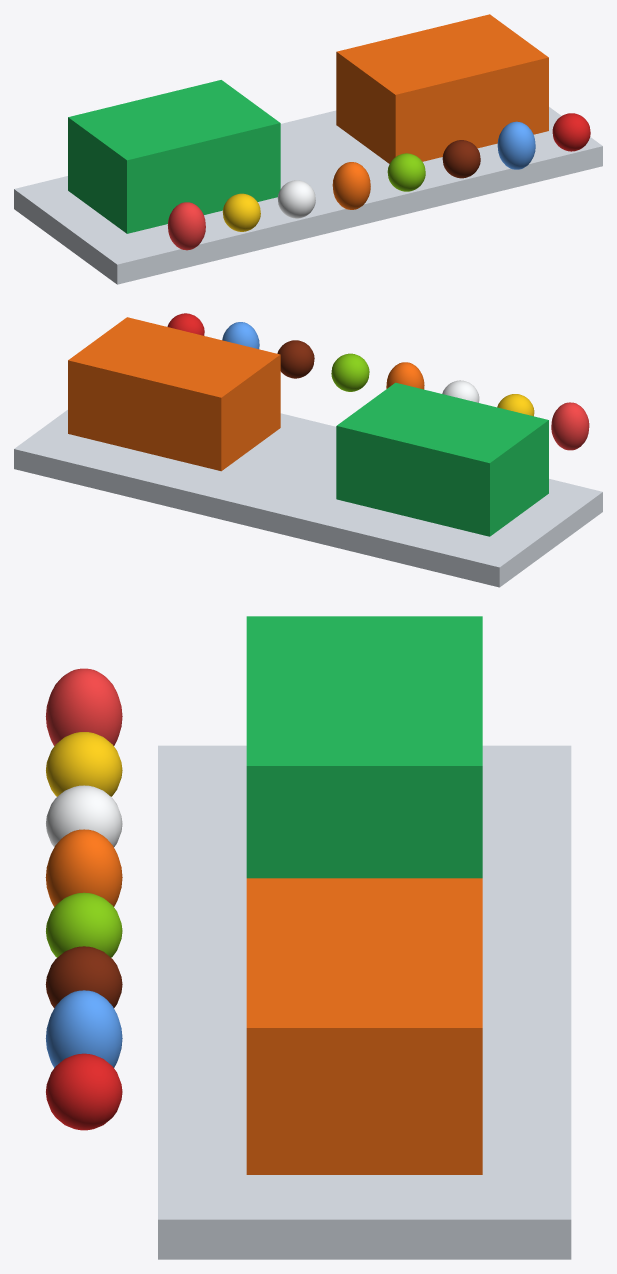
File: healthy-habits-table.glb
The picture shows the model from 3 angles, top to bottom: view 1: azimuth 30°, elevation 25°; view 2: azimuth 150°, elevation 25°; view 3: azimuth 270°, elevation 25°; orthographic projection. The views are drawn at different scales.
Visible parts, largest first — view 1: sorting-table, healthy-basket, sometimes-basket, food-model-6, food-model-0, food-model-3, food-model-4, food-model-7, food-model-5, food-model-2, food-model-1; view 2: sorting-table, healthy-basket, sometimes-basket, food-model-0, food-model-4, food-model-5, food-model-3, food-model-6, food-model-7, food-model-2, food-model-1; view 3: sorting-table, sometimes-basket, healthy-basket, food-model-7, food-model-6, food-model-3, food-model-0, food-model-4, food-model-1, food-model-2, food-model-5.
Boxes of the visible parts, x1=… form: sorting-table: x1=14, y1=107, x2=602, y2=284; healthy-basket: x1=68, y1=80, x2=280, y2=233; sometimes-basket: x1=336, y1=14, x2=548, y2=163; food-model-6: x1=497, y1=121, x2=535, y2=169; food-model-0: x1=167, y1=202, x2=205, y2=250; food-model-3: x1=332, y1=162, x2=370, y2=209; food-model-4: x1=387, y1=153, x2=425, y2=191; food-model-7: x1=552, y1=113, x2=590, y2=151; food-model-5: x1=442, y1=140, x2=480, y2=178; food-model-2: x1=277, y1=180, x2=315, y2=218; food-model-1: x1=222, y1=193, x2=260, y2=231; sorting-table: x1=14, y1=410, x2=602, y2=587; healthy-basket: x1=336, y1=382, x2=548, y2=536; sometimes-basket: x1=68, y1=317, x2=280, y2=471; food-model-0: x1=551, y1=402, x2=589, y2=450; food-model-4: x1=331, y1=353, x2=369, y2=391; food-model-5: x1=277, y1=340, x2=314, y2=378; food-model-3: x1=386, y1=362, x2=424, y2=389; food-model-6: x1=222, y1=322, x2=259, y2=349; food-model-7: x1=167, y1=313, x2=204, y2=335; food-model-2: x1=442, y1=380, x2=479, y2=402; food-model-1: x1=497, y1=394, x2=534, y2=416; sorting-table: x1=158, y1=745, x2=571, y2=1259; sometimes-basket: x1=246, y1=878, x2=482, y2=1174; healthy-basket: x1=246, y1=616, x2=482, y2=878; food-model-7: x1=46, y1=1053, x2=122, y2=1130; food-model-6: x1=45, y1=990, x2=122, y2=1067; food-model-3: x1=45, y1=829, x2=122, y2=906; food-model-0: x1=45, y1=668, x2=122, y2=745; food-model-4: x1=46, y1=892, x2=122, y2=957; food-model-1: x1=46, y1=732, x2=122, y2=796; food-model-2: x1=46, y1=785, x2=122, y2=847; food-model-5: x1=45, y1=946, x2=122, y2=1008.
Size of the model in its own units: 3.8 by 0.75 by 1.78.
